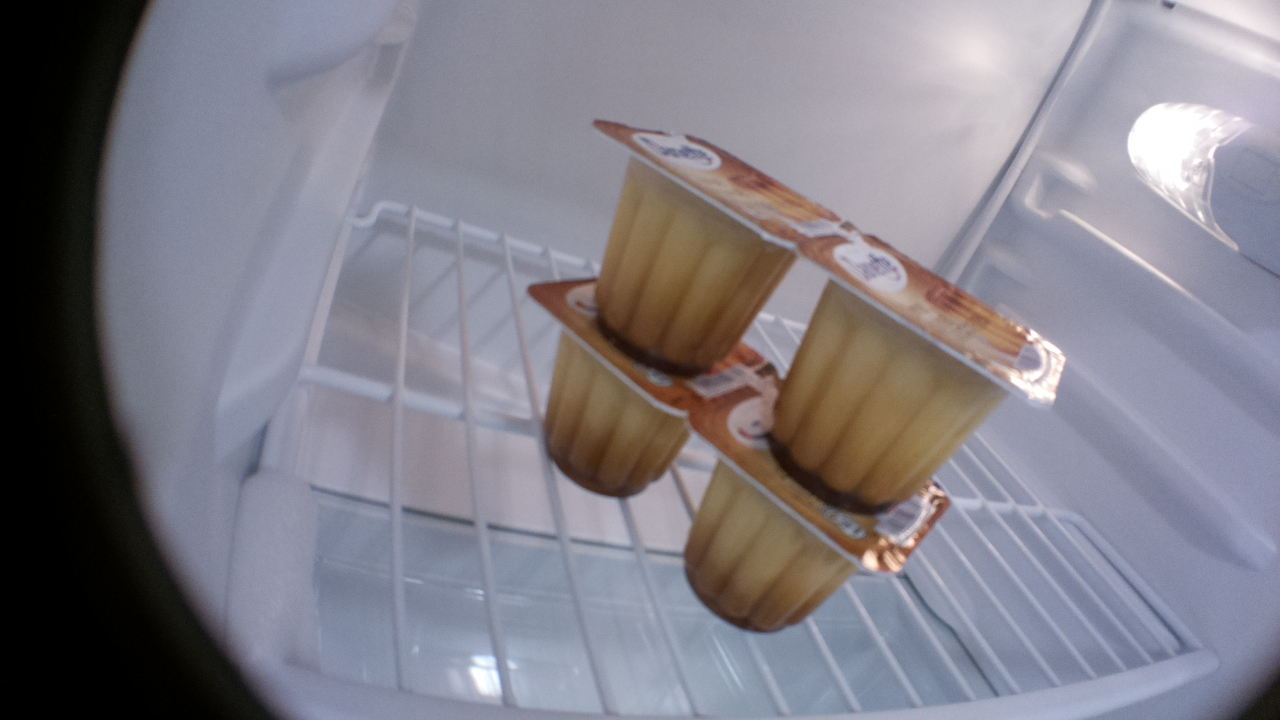caramel: (767, 230, 1077, 514), (679, 376, 949, 635), (586, 115, 820, 378), (521, 280, 766, 499)
